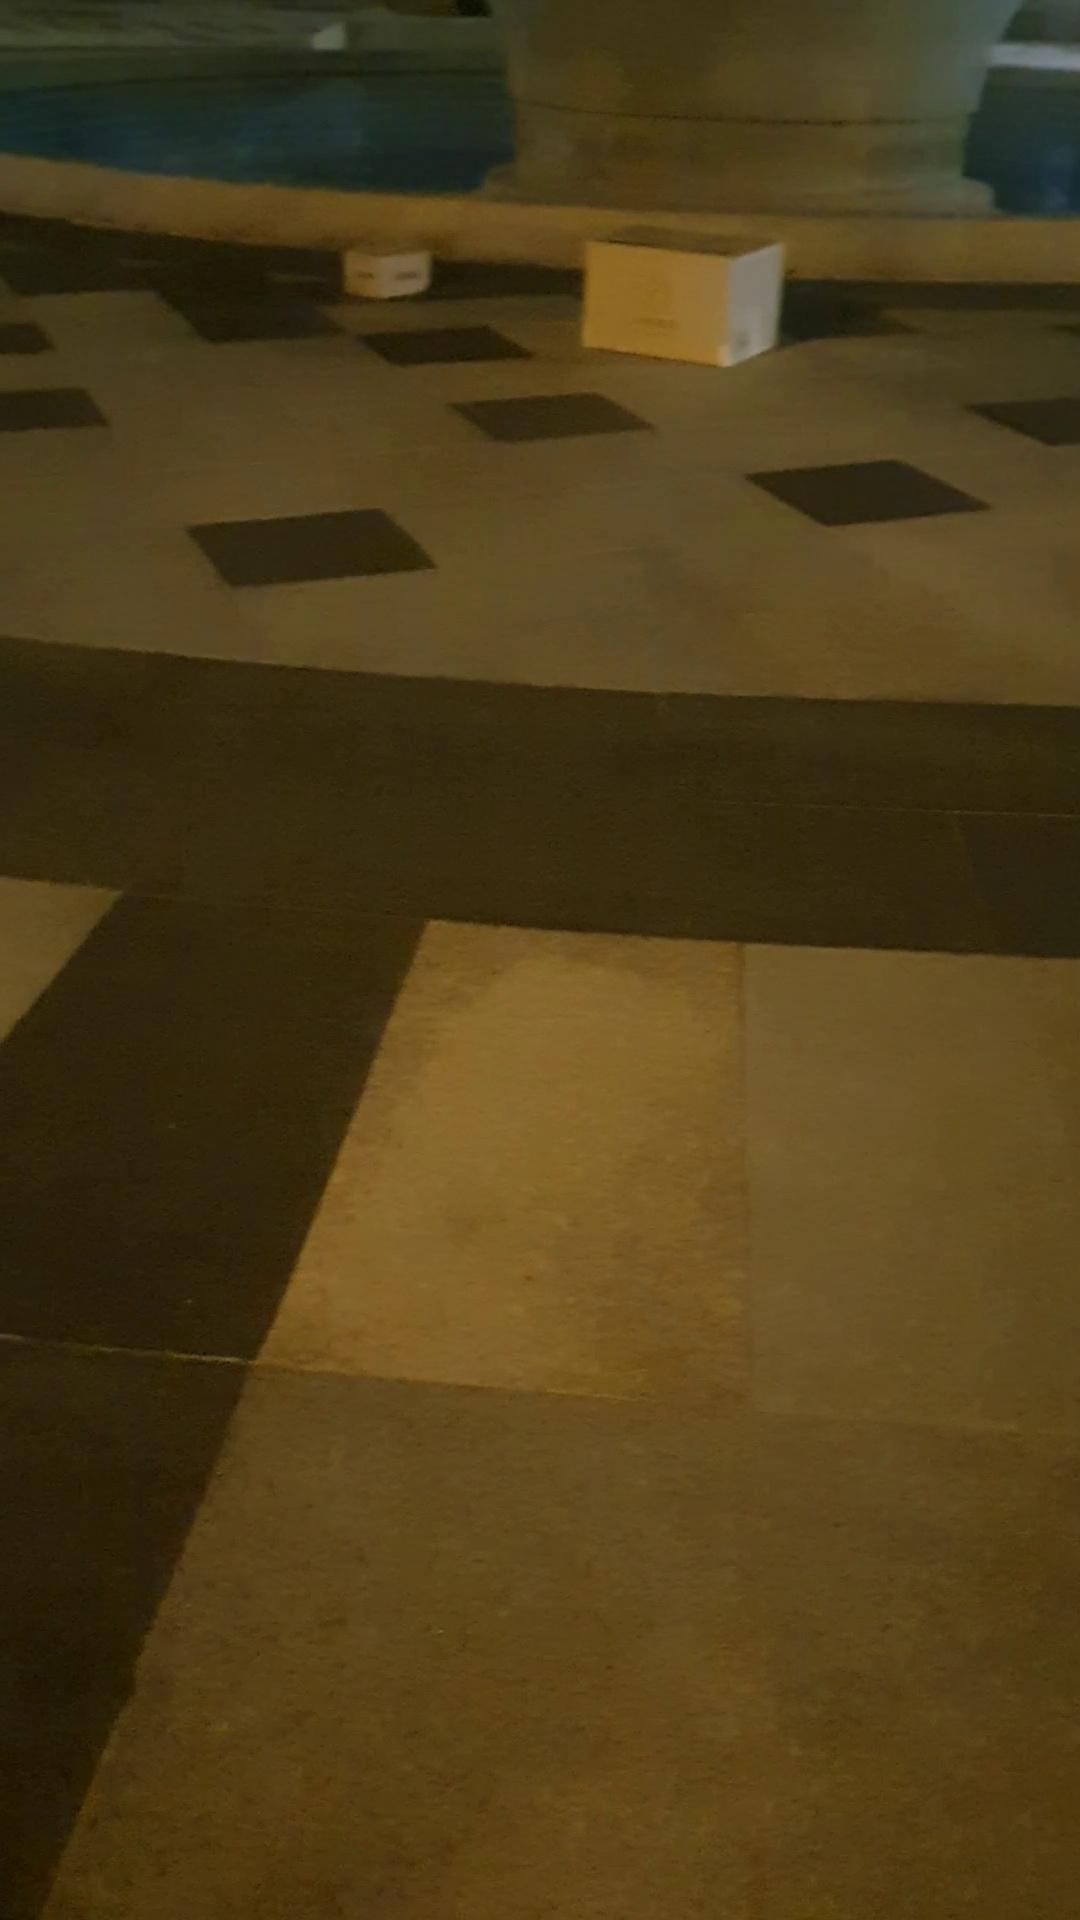Box: (568, 225, 782, 367), (338, 228, 447, 310)
